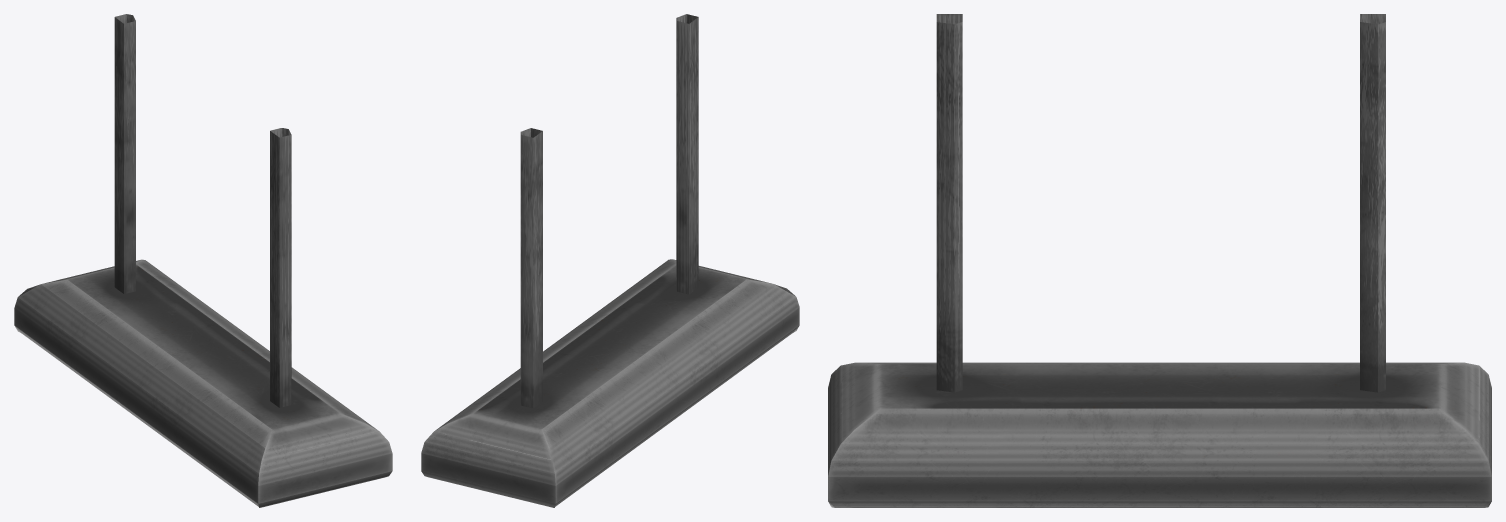
Rendered from OverheadLight.fbx.
3 views of the same model, side by side, from view 1: azimuth 30°, elevation 25°; view 2: azimuth 150°, elevation 25°; view 3: azimuth 270°, elevation 25° (orthographic). The views are drawn at different scales.
Visible parts, largest first — view 1: OverheadLight; view 2: OverheadLight; view 3: OverheadLight.
Part boxes in pixels (<box>): OverheadLight: <box>14,14,392,507</box>; OverheadLight: <box>421,14,799,507</box>; OverheadLight: <box>828,14,1491,507</box>.
Bounding box in the file's own units: 37.51 × 87.85 × 118.
